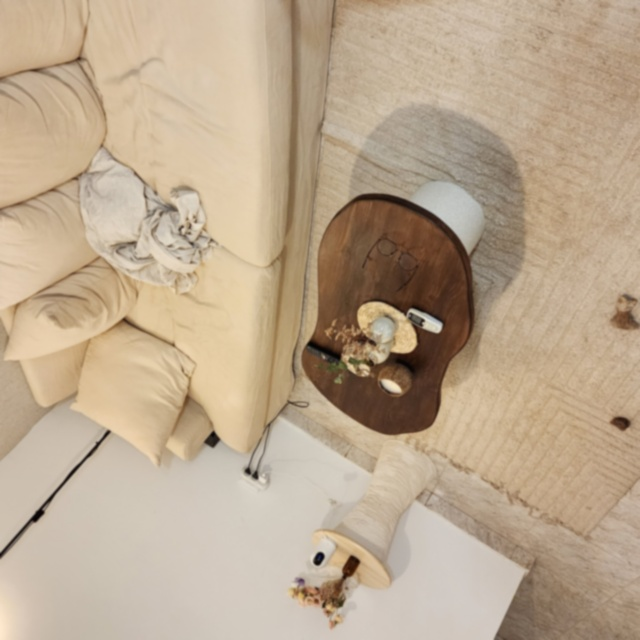glasses: (358, 237, 421, 293)
